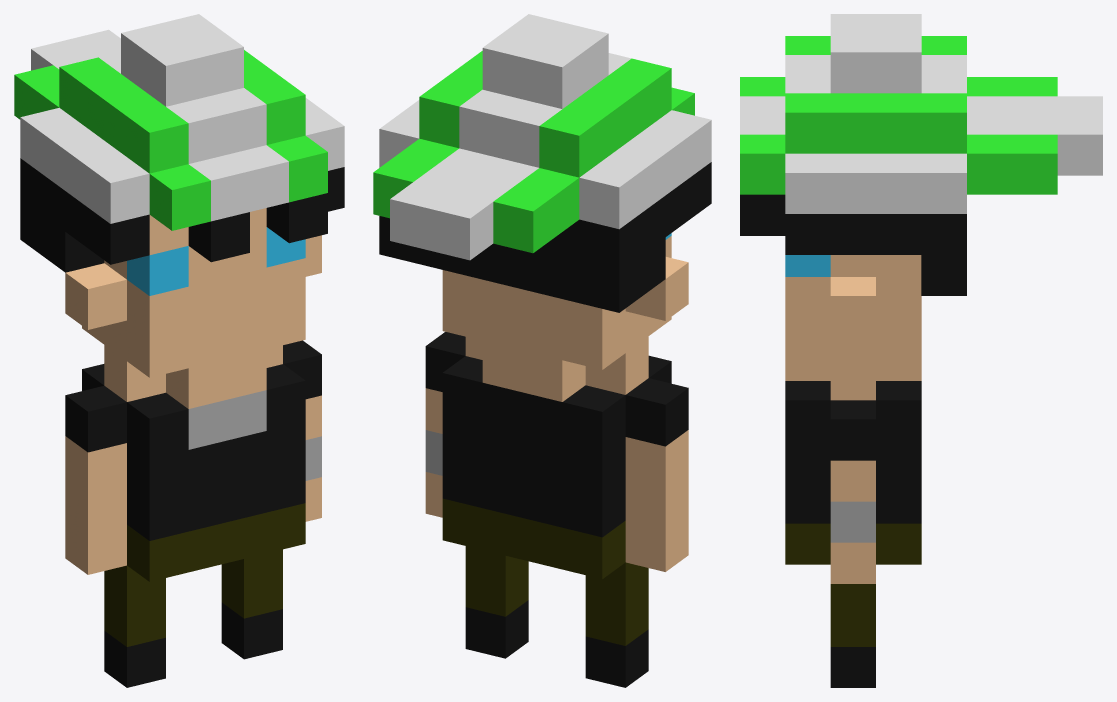
File: spec10.obj
The picture shows the model from 3 angles, left to right: view 1: azimuth 30°, elevation 25°; view 2: azimuth 150°, elevation 25°; view 3: azimuth 270°, elevation 25°; orthographic projection. The views are drawn at different scales.
Size of the model in its own units: 0.6 by 1.5 by 0.8.
1 material, 1 textured.
